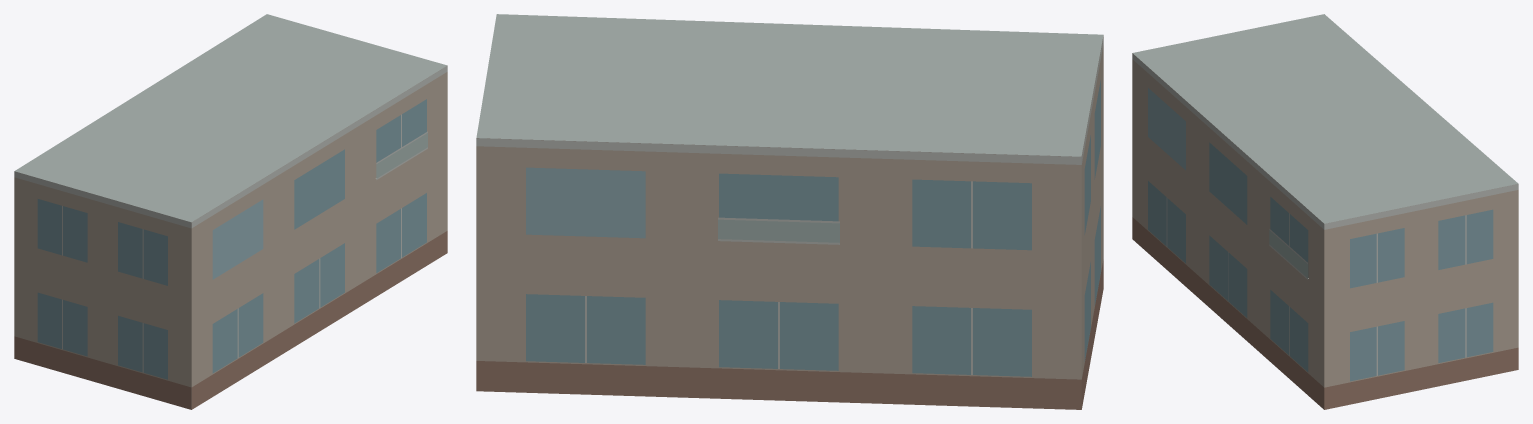
File: survey-upis-33000916.glb
3 renders of one model, left to right at view 1: azimuth 30°, elevation 25°; view 2: azimuth 150°, elevation 25°; view 3: azimuth 270°, elevation 25°, orthographic. The views are drawn at different scales.
Parts seen in each view (by area): view 1: survey-upis-33000916.tmp; view 2: survey-upis-33000916.tmp; view 3: survey-upis-33000916.tmp.
Boxes of the visible parts, left/top/right/bottom form: survey-upis-33000916.tmp: left=14, top=14, right=447, bottom=409; survey-upis-33000916.tmp: left=476, top=14, right=1103, bottom=409; survey-upis-33000916.tmp: left=1132, top=14, right=1518, bottom=409.
Bounding box in the file's own units: 18.15 × 7.5 × 14.12.
